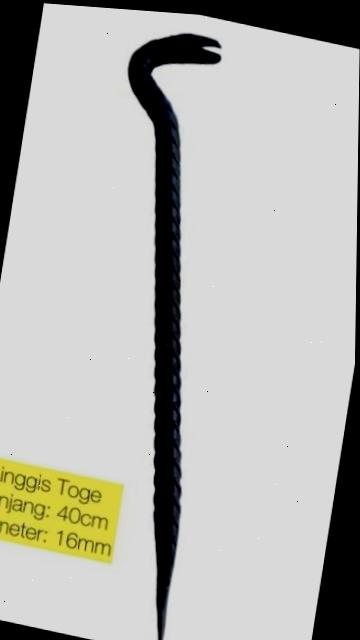crow bar: (105, 11, 239, 640)
